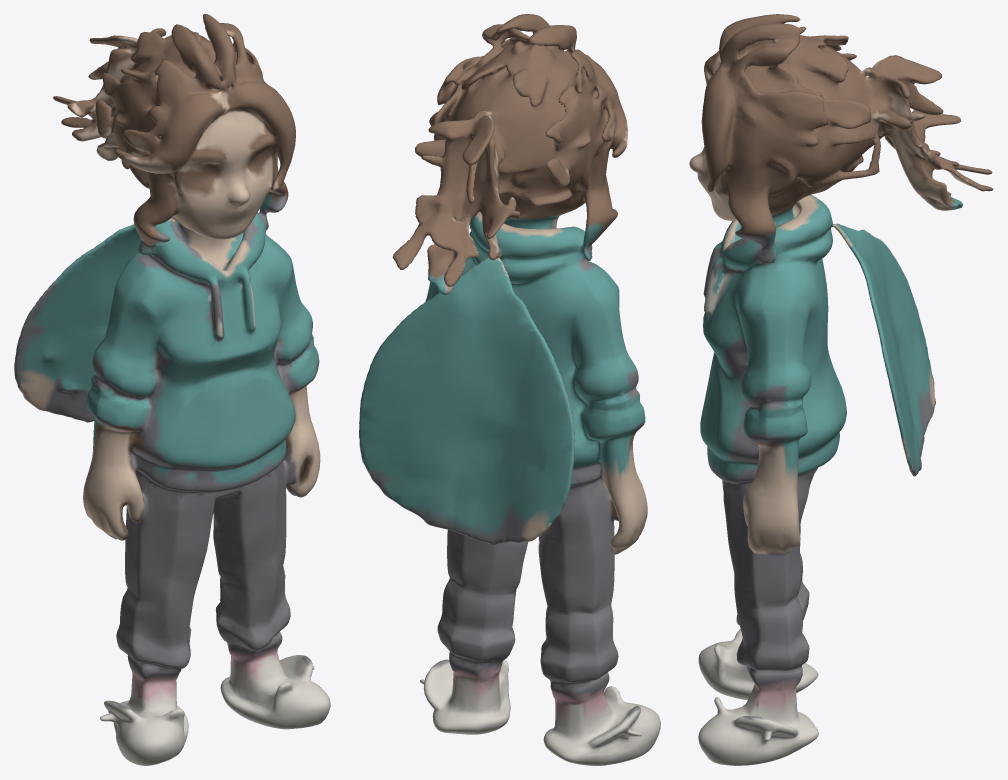
Rendered from valeria.glb.
The picture shows the model from 3 angles, left to right: view 1: azimuth 30°, elevation 25°; view 2: azimuth 150°, elevation 25°; view 3: azimuth 270°, elevation 25°; orthographic projection. The views are drawn at different scales.
Parts seen in each view (by area): view 1: tmpv4a59vk0.ply; view 2: tmpv4a59vk0.ply; view 3: tmpv4a59vk0.ply.
Part boxes in pixels (x1,y1,x2,y2): tmpv4a59vk0.ply: [14, 14, 330, 765]; tmpv4a59vk0.ply: [359, 14, 660, 765]; tmpv4a59vk0.ply: [689, 14, 993, 765].
Bounding box in the file's own units: 0.682 × 2 × 0.7838.
